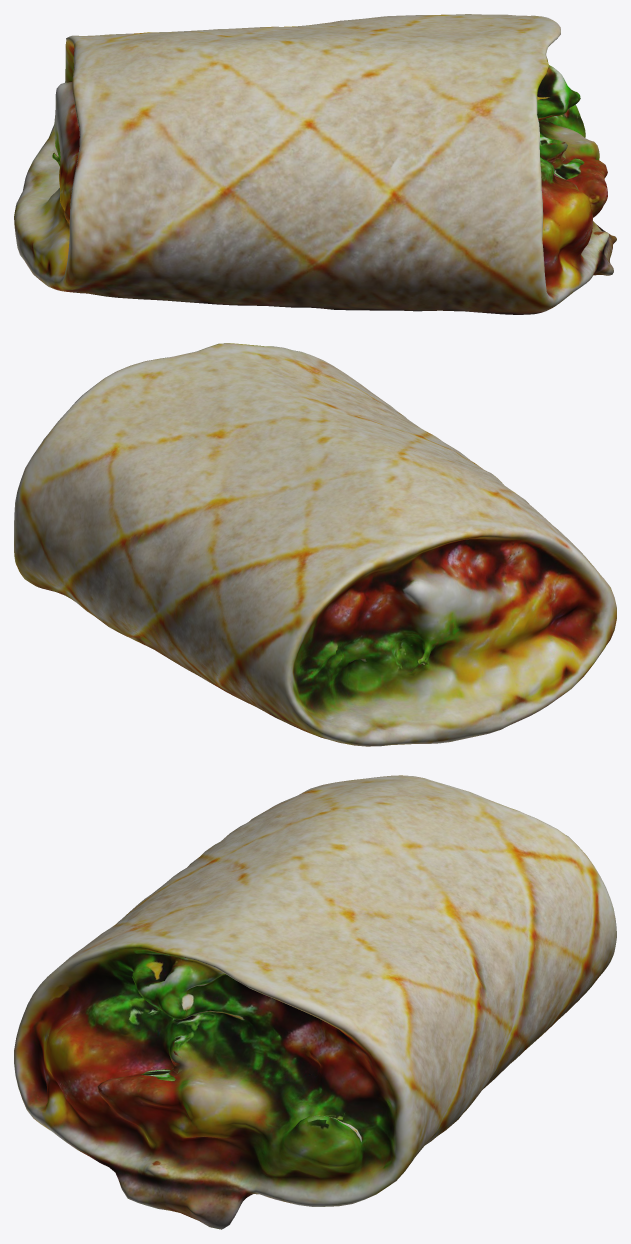
File: burger4.gltf
3 renders of one model, top to bottom at view 1: azimuth 30°, elevation 25°; view 2: azimuth 150°, elevation 25°; view 3: azimuth 270°, elevation 25°, orthographic. The views are drawn at different scales.
Parts seen in each view (by area): view 1: mesh_base_material_0; view 2: mesh_base_material_0; view 3: mesh_base_material_0.
Part boxes in pixels (x1=…): mesh_base_material_0: x1=14, y1=14, x2=616, y2=314; mesh_base_material_0: x1=14, y1=343, x2=616, y2=746; mesh_base_material_0: x1=14, y1=775, x2=616, y2=1229.
Bounding box in the file's own units: 0.9996 × 0.4279 × 0.9117.
1 material, 1 textured.
